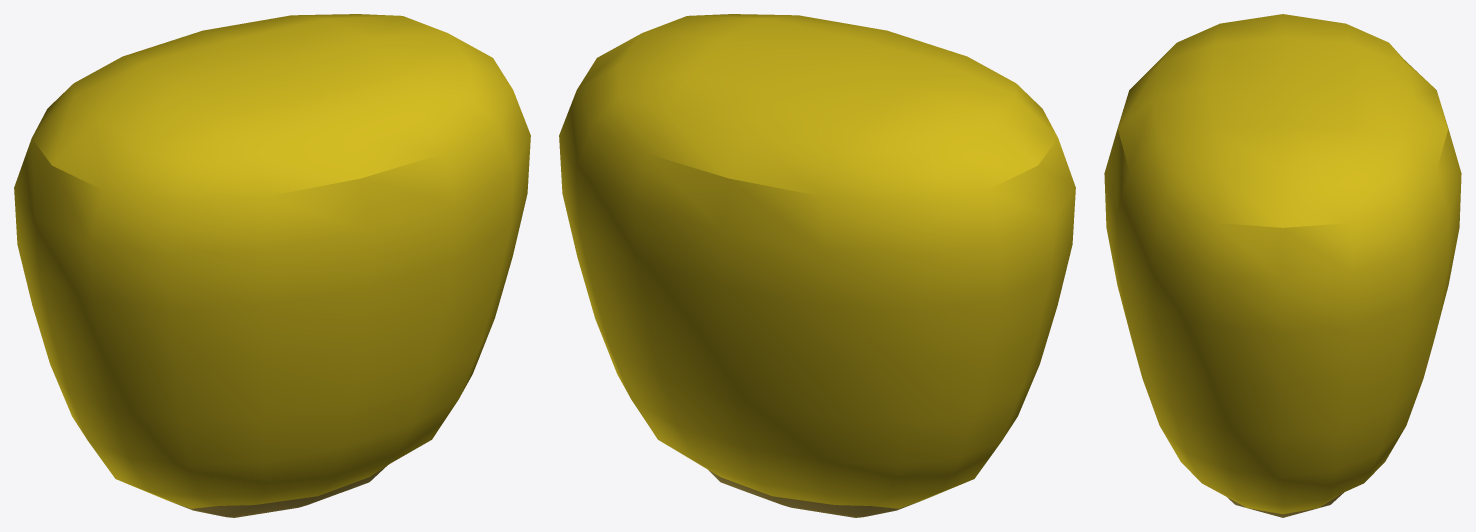
Rendered from kukurydza.fbx.
3 views of the same model, side by side, from view 1: azimuth 30°, elevation 25°; view 2: azimuth 150°, elevation 25°; view 3: azimuth 270°, elevation 25° (orthographic). The views are drawn at different scales.
Visible parts, largest first — view 1: Cube; view 2: Cube; view 3: Cube.
Part boxes in pixels (box(x1,y1,x2,y2)): Cube: box(14, 14, 530, 517); Cube: box(559, 14, 1075, 517); Cube: box(1104, 14, 1461, 517).
Bounding box in the file's own units: 228 × 203 × 159.
